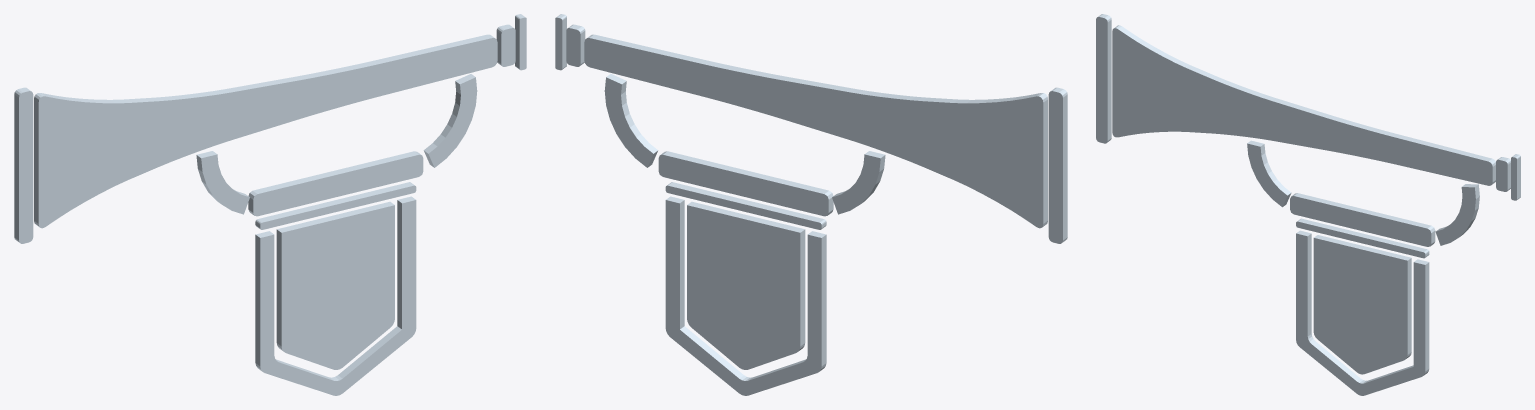
File: Trumpet_3D_Icon.fbx
3 renders of one model, left to right at view 1: azimuth 30°, elevation 25°; view 2: azimuth 150°, elevation 25°; view 3: azimuth 330°, elevation 25°, orthographic. The views are drawn at different scales.
Parts seen in each view (by area): view 1: Trumpet_3D_Icon_01; view 2: Trumpet_3D_Icon_01; view 3: Trumpet_3D_Icon_01.
Part boxes in pixels (x1,y1,x2,y2): Trumpet_3D_Icon_01: (14,14,526,395); Trumpet_3D_Icon_01: (555,14,1067,395); Trumpet_3D_Icon_01: (1096,14,1520,395).
Bounding box in the file's own units: 122 × 87.06 × 2.
